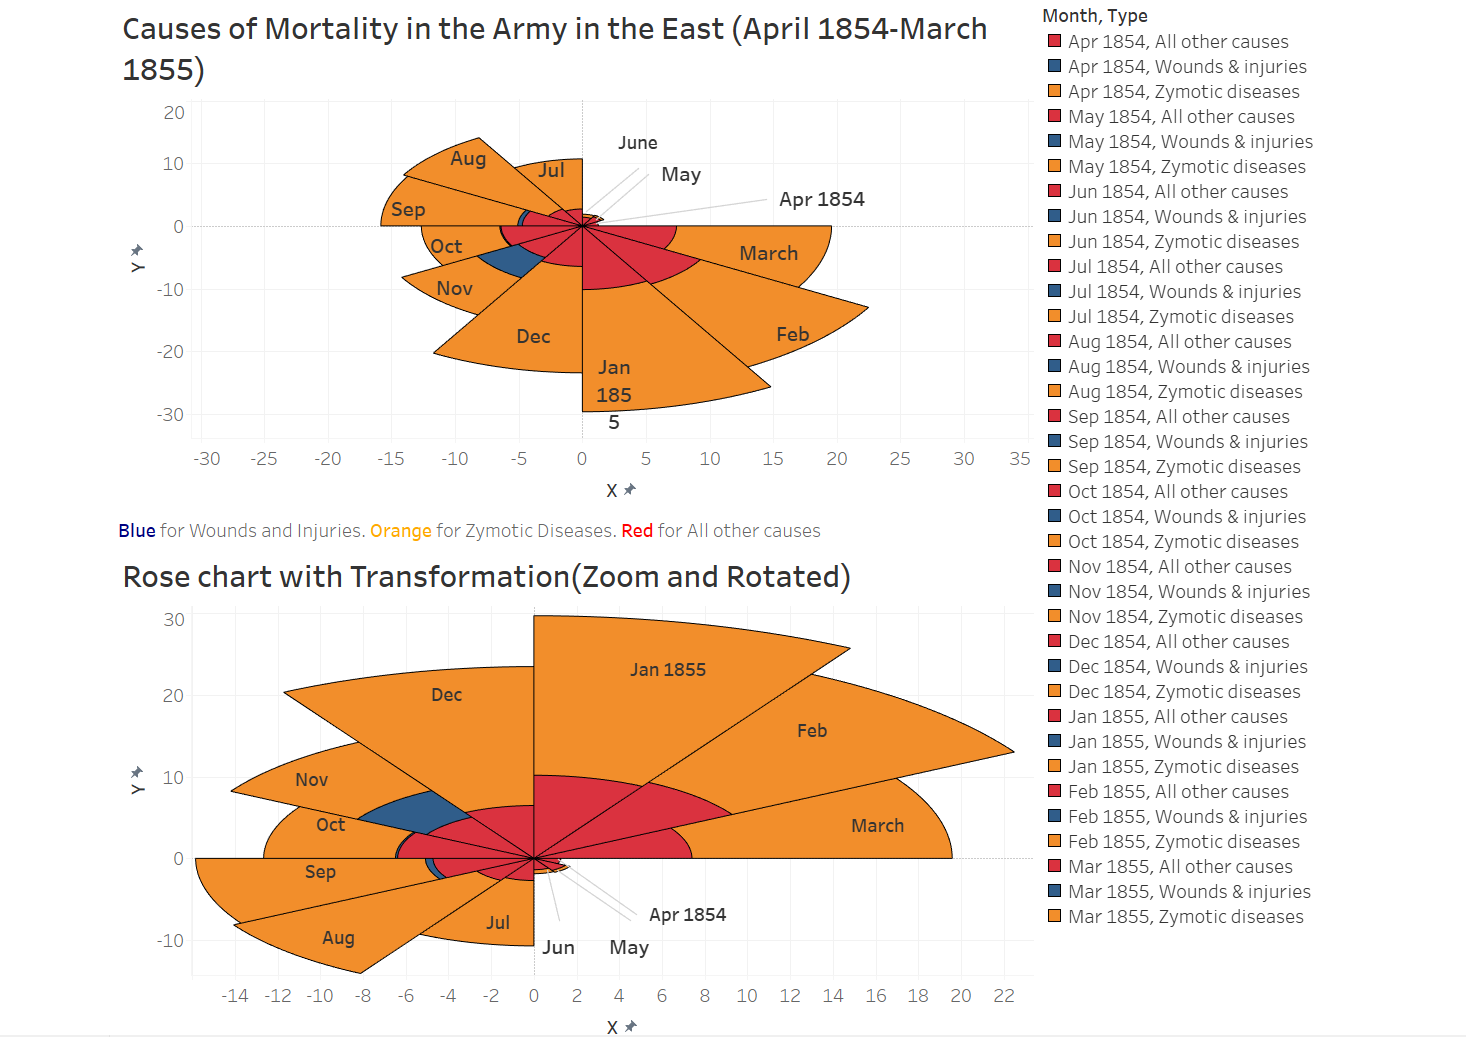

The dashboard page shown, as its layout file describes it:
{"tool":"tableau","page":{"name":"Dashboard 1","canvas":[1224,1068],"ordinal":0},"visuals":[{"type":"worksheet","title":"Sheet 1","mark":"Polygon","box":[8,8,924,548]},{"type":"legend","title":"Sheet 1","param":"[federated.0duko5p0d5f7lx1enke1p1332s6b].[none:Month:nk]\n[federated.0duko5p0d5f7","box":[932,8,284,934]},{"type":"worksheet","title":"Sheet 1 (2)","mark":"Polygon","box":[8,556,924,504]}]}

Visuals, with their boxes on the page's 1224x1068 design canvas (x1, y1, x2, y2). These are canvas units, not pixel positions in the 1466x1037 screenshot, which may show the page scaled, cropped or inside an application window:
"Sheet 1" worksheet (Polygon marks): box=[8, 8, 932, 556]
"Sheet 1" legend: box=[932, 8, 1216, 942]
"Sheet 1 (2)" worksheet (Polygon marks): box=[8, 556, 932, 1060]
